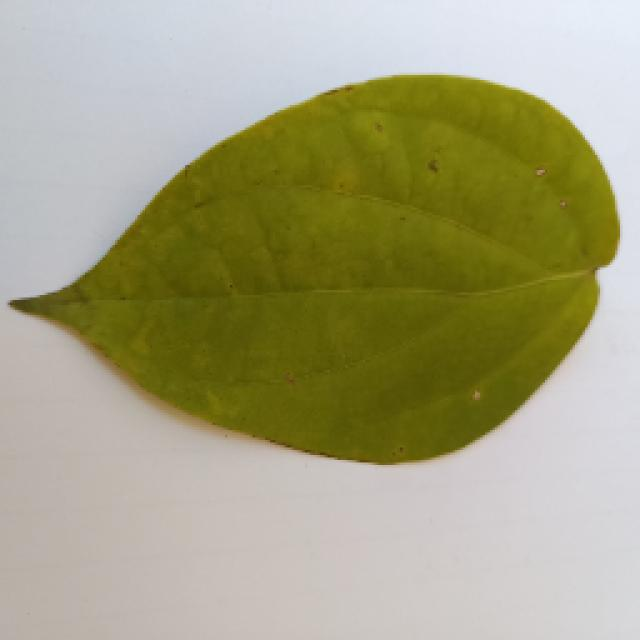slow-decline: (8, 80, 608, 460)
